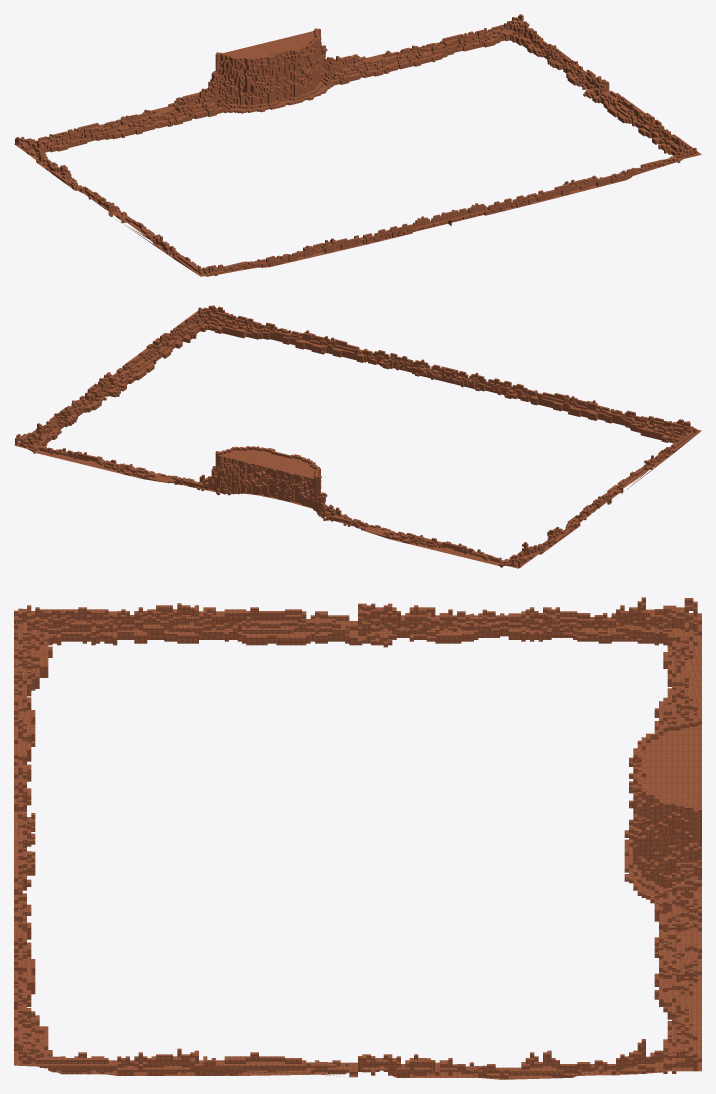
File: Cliff_chocotexture.FBX
The picture shows the model from 3 angles, top to bottom: view 1: azimuth 30°, elevation 25°; view 2: azimuth 150°, elevation 25°; view 3: azimuth 270°, elevation 25°; orthographic projection. The views are drawn at different scales.
Visible parts, largest first — view 1: Cliff; view 2: Cliff; view 3: Cliff.
Boxes of the visible parts, x1,y1,x2,y2 form: Cliff: (14, 14, 701, 276); Cliff: (14, 305, 701, 568); Cliff: (14, 597, 701, 1079).
Bounding box in the file's own units: 252 × 24 × 160.
